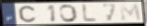1: (46, 4, 56, 23)
7: (102, 4, 118, 23)
C: (18, 5, 37, 23)
L: (82, 4, 98, 23)
M: (119, 3, 143, 22)
O: (59, 4, 80, 23)
